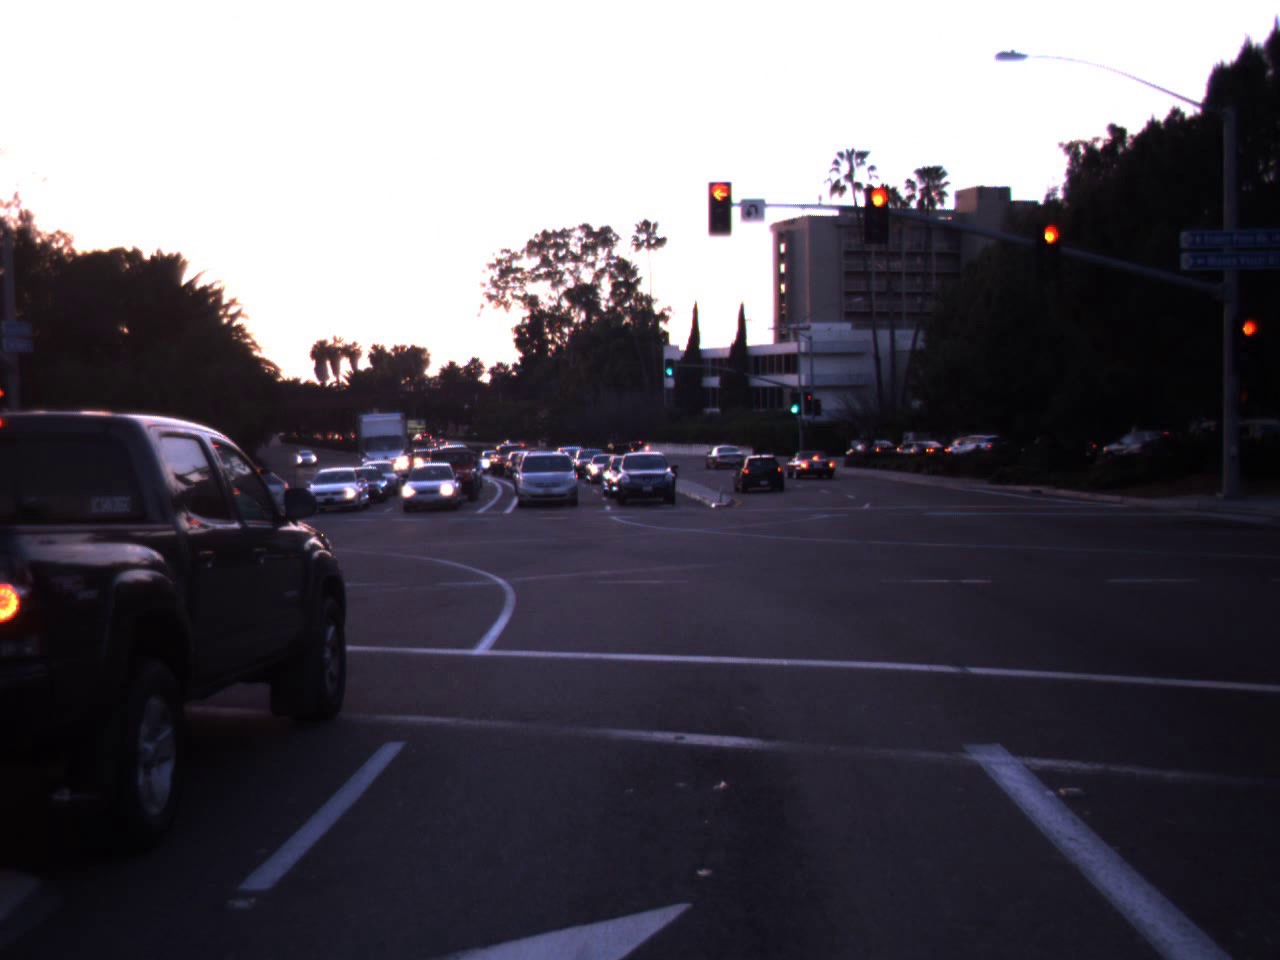go: (662, 351, 677, 376), (789, 385, 801, 415)
stop: (1225, 313, 1270, 376), (696, 178, 744, 232), (863, 188, 893, 242), (1036, 229, 1063, 265)
